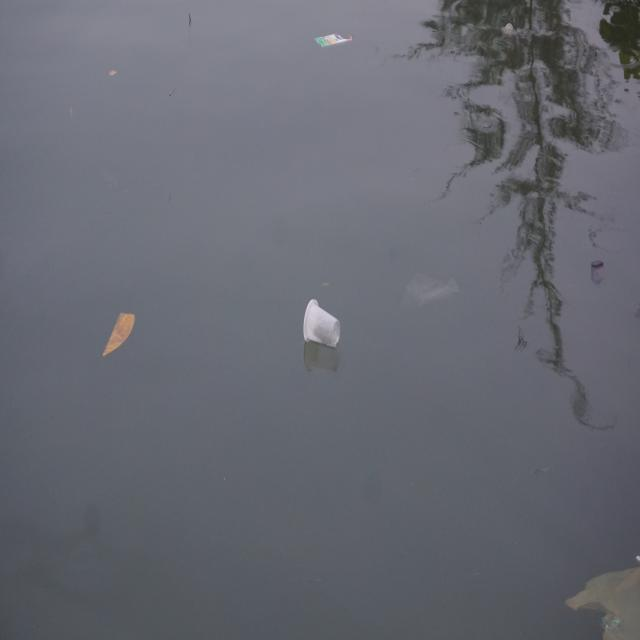Bungkus Makanan: (315, 22, 357, 59)
Bungkus Minuman: (302, 292, 347, 361)
Kantong Plastik: (562, 555, 640, 640)
